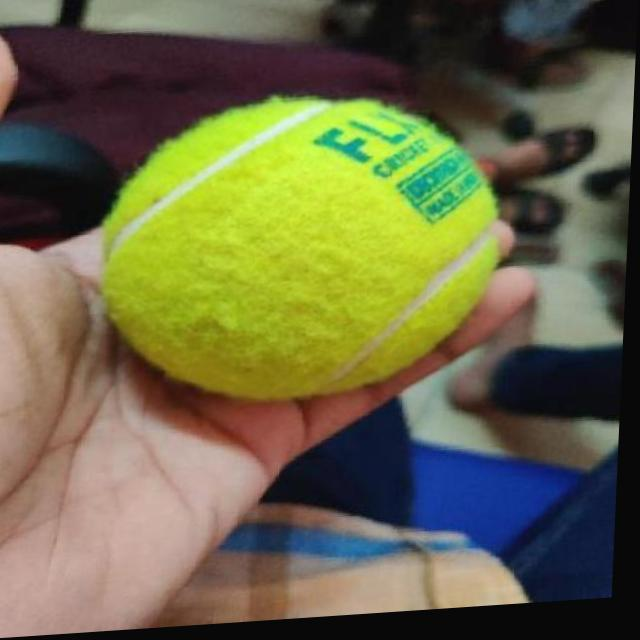-: (97, 91, 516, 424)
